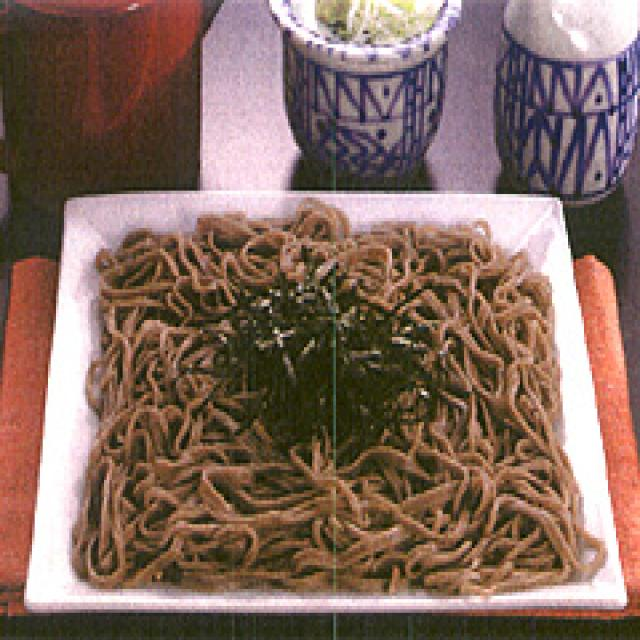面条主食: (24, 170, 635, 623)
